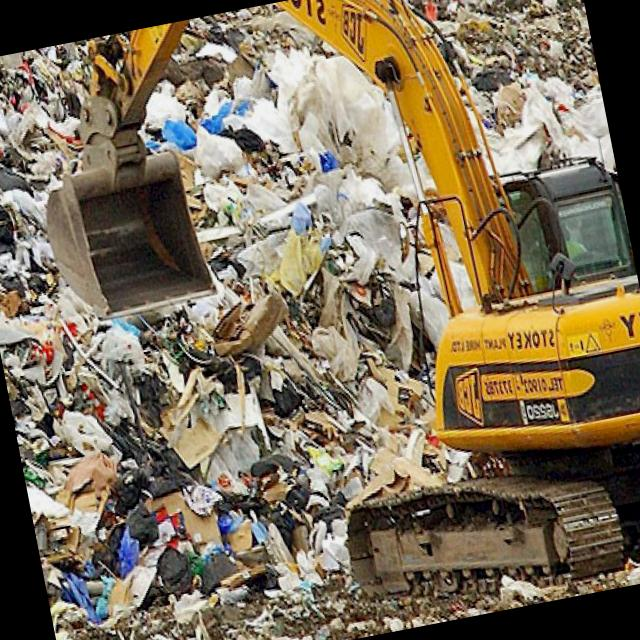garbage: (0, 262, 440, 550), (42, 508, 361, 640), (442, 0, 608, 180)
